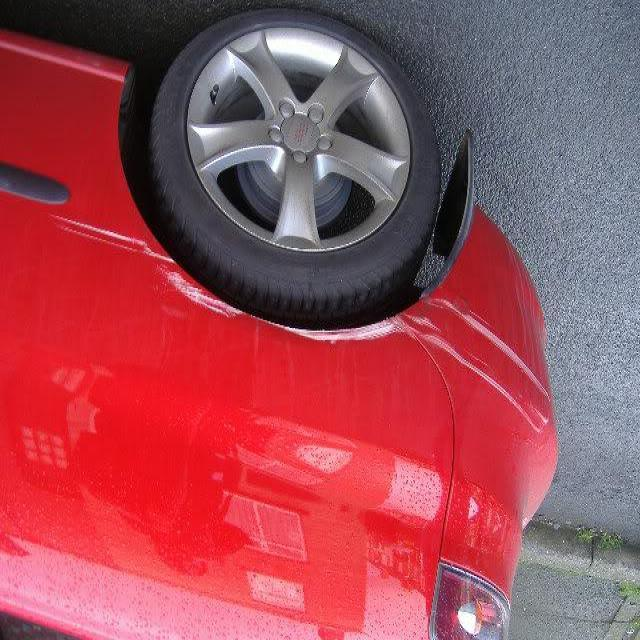scratch: (140, 258, 431, 370)
